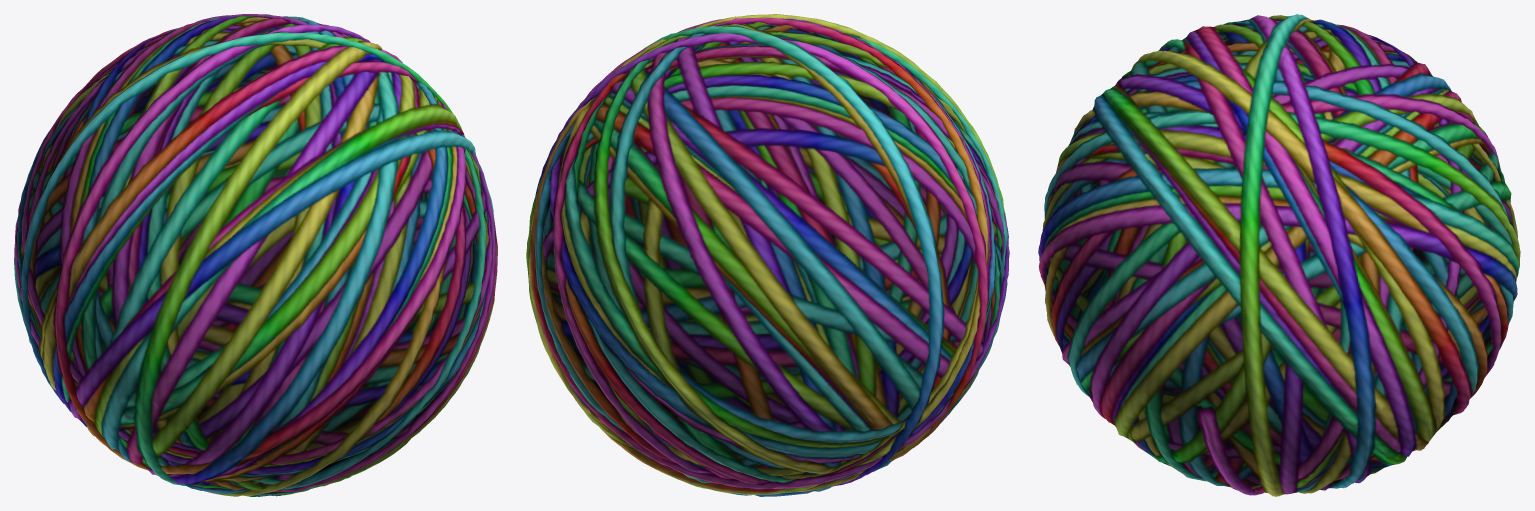
3 renders of one model, left to right at view 1: azimuth 30°, elevation 25°; view 2: azimuth 150°, elevation 25°; view 3: azimuth 270°, elevation 25°, orthographic.
Visible parts, largest first — view 1: SM_Globe6HD_retopo; view 2: SM_Globe6HD_retopo; view 3: SM_Globe6HD_retopo.
Boxes of the visible parts, box(x1,y1,x2,y2) form: SM_Globe6HD_retopo: box(14, 14, 497, 496); SM_Globe6HD_retopo: box(526, 14, 1009, 496); SM_Globe6HD_retopo: box(1038, 14, 1520, 496).
Bounding box in the file's own units: 1.03 × 1.03 × 1.03.
Materials: 1 (1 with a texture image).
